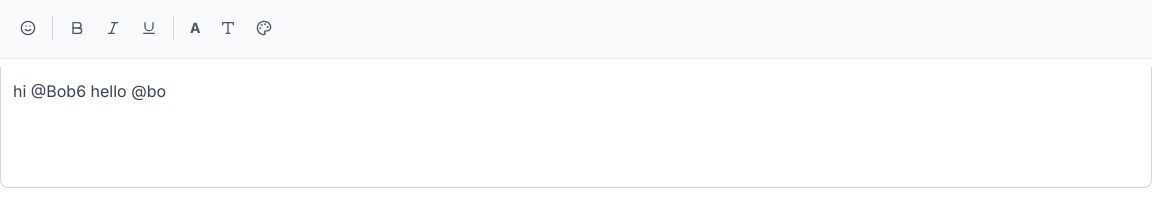
Test: RichTextEditor - Mention Position Fix › should handle mention insertion at correct position with existing mentions
Clear the field labelled "hi @Bob6 hello @bo" at (90, 91), box [13,81,166,101]
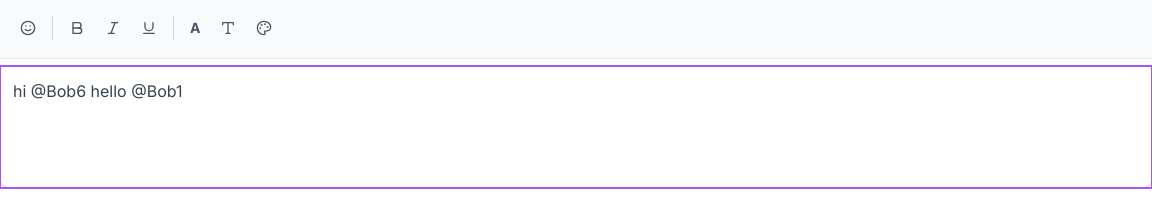
Expected: the text box with class "mention" reads "@Bob6", [31,81,86,101]
Expected: the number of text boxes with class "mention" is 2, [31,81,86,101]; [131,81,182,101]
Expected: the text with class "mention" reads "@Bob1", [131,81,182,101]
